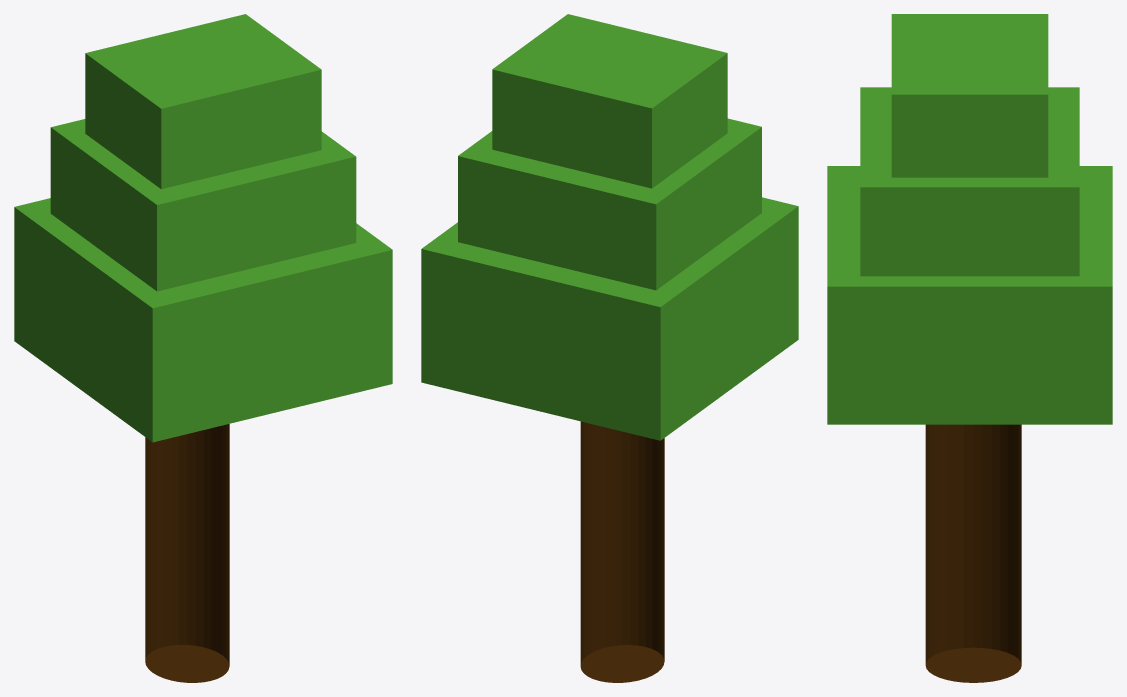
The model's file is POHON 1 TAMBANG.fbx.
3 renders of one model, left to right at view 1: azimuth 30°, elevation 25°; view 2: azimuth 150°, elevation 25°; view 3: azimuth 270°, elevation 25°, orthographic. The views are drawn at different scales.
Parts seen in each view (by area): view 1: Plane.034, Plane.035; view 2: Plane.034, Plane.035; view 3: Plane.034, Plane.035.
Boxes of the visible parts, left/top/right/bottom form: Plane.034: left=14, top=14, right=392, bottom=442; Plane.035: left=145, top=424, right=229, bottom=682; Plane.034: left=421, top=14, right=798, bottom=440; Plane.035: left=580, top=421, right=664, bottom=682; Plane.034: left=827, top=14, right=1112, bottom=424; Plane.035: left=925, top=424, right=1021, bottom=682.
Size of the model in its own units: 2161 by 5164 by 2161.
